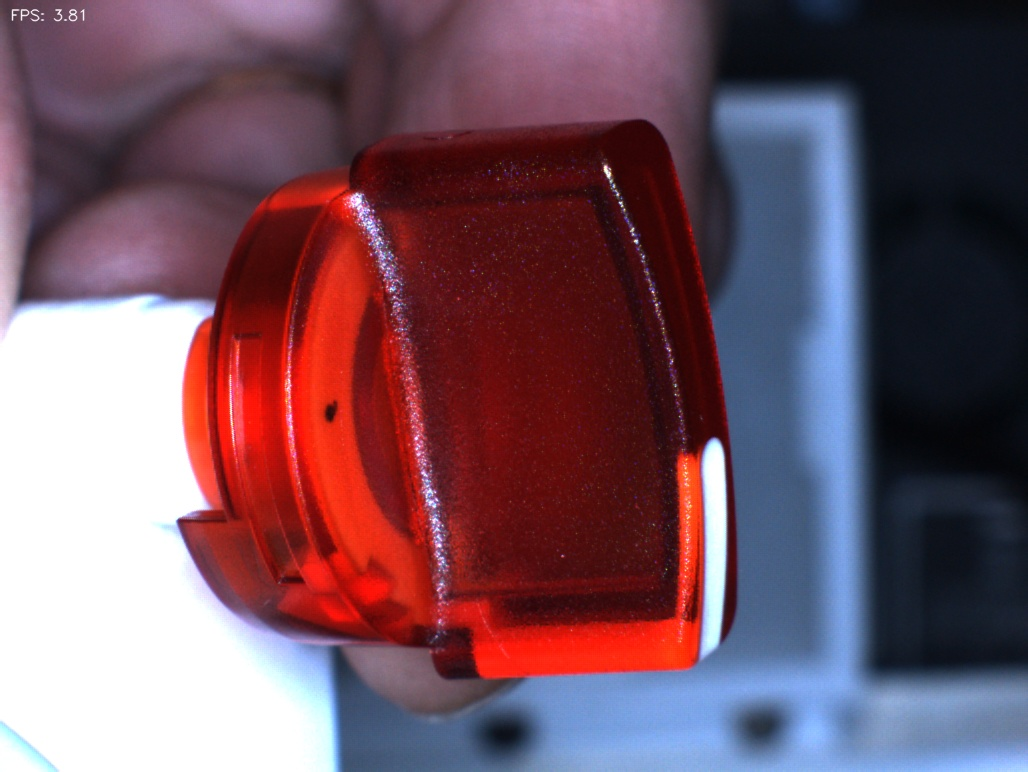PointNoir: (296, 376, 365, 442)
